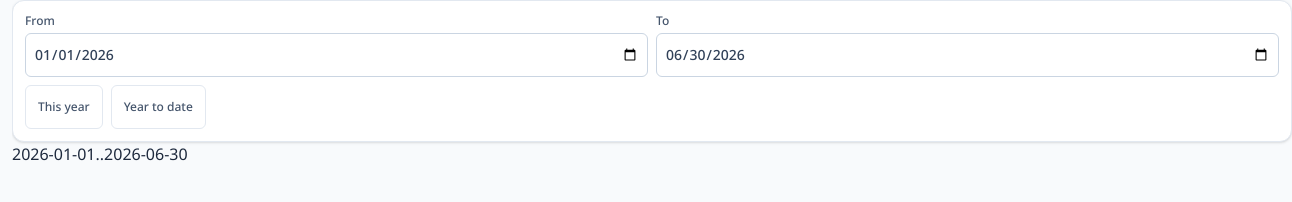
DateRangeFilter › recovers through a preset after an unusable edit
Clear the date field labelled "To": (968, 55) [656, 33, 1279, 77]
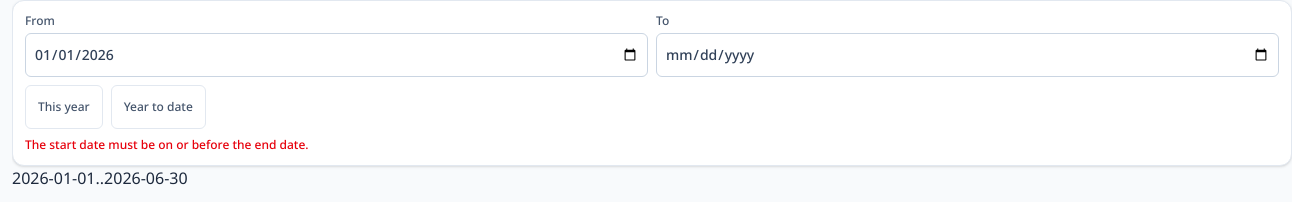
expect the message "The start date must be on or before the end date." is shown: met, box [25, 136, 309, 153]
Click the button "This year": click(64, 107) [25, 85, 103, 129]
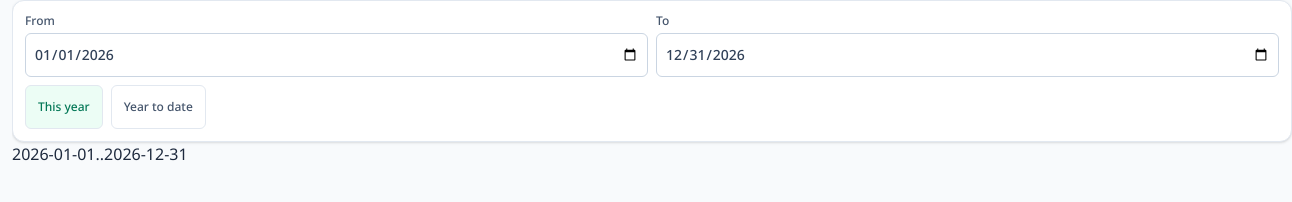
expect the message "The start date must be on or before the end date." is gone: met
